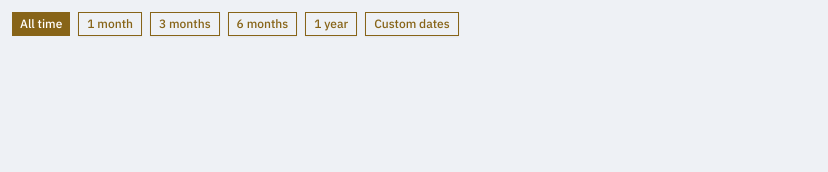
TimeRangeSelector › offers all the presets and custom dates
The image size is (828, 172).
Expected: the button "All time" is shown, [12, 12, 70, 36]
Expected: the button "1 month" is shown, [78, 12, 142, 36]
Click the button "3 months" at (185, 24), box [150, 12, 220, 36]
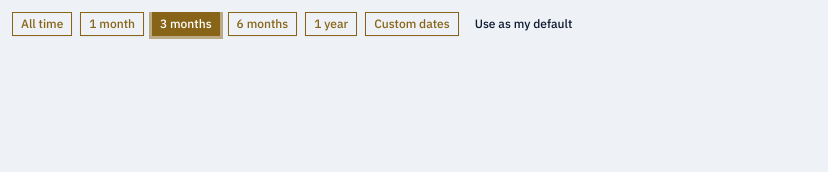
Click the button "Custom dates" at (412, 24), box [365, 12, 459, 36]
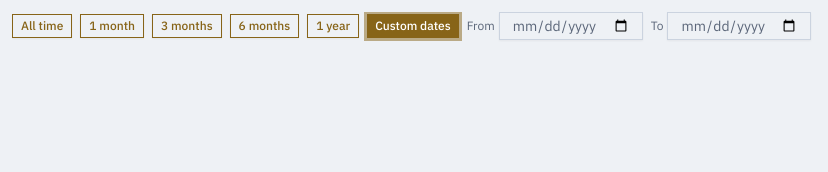
Expected: the date field labelled "From" is shown, [499, 12, 643, 40]
Expected: the date field labelled "To" is shown, [668, 12, 812, 40]
